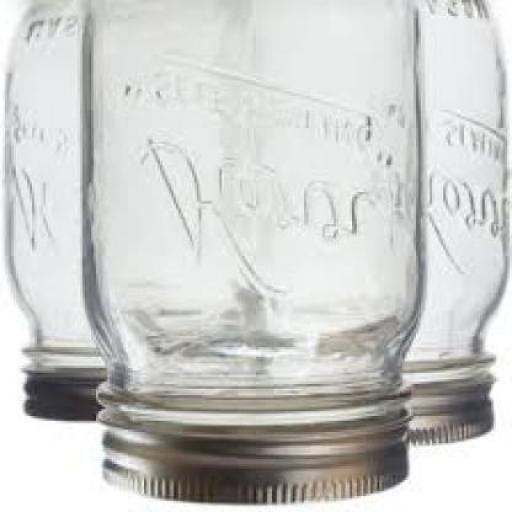glass: (80, 2, 422, 430), (400, 2, 506, 389), (4, 2, 103, 376)
metal: (99, 421, 406, 507), (398, 374, 496, 451), (21, 377, 105, 425)
